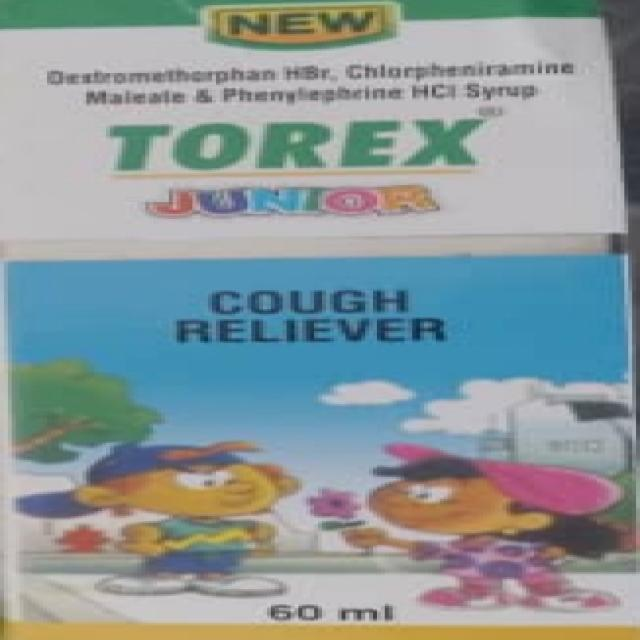drug-name: (107, 118, 493, 172)
